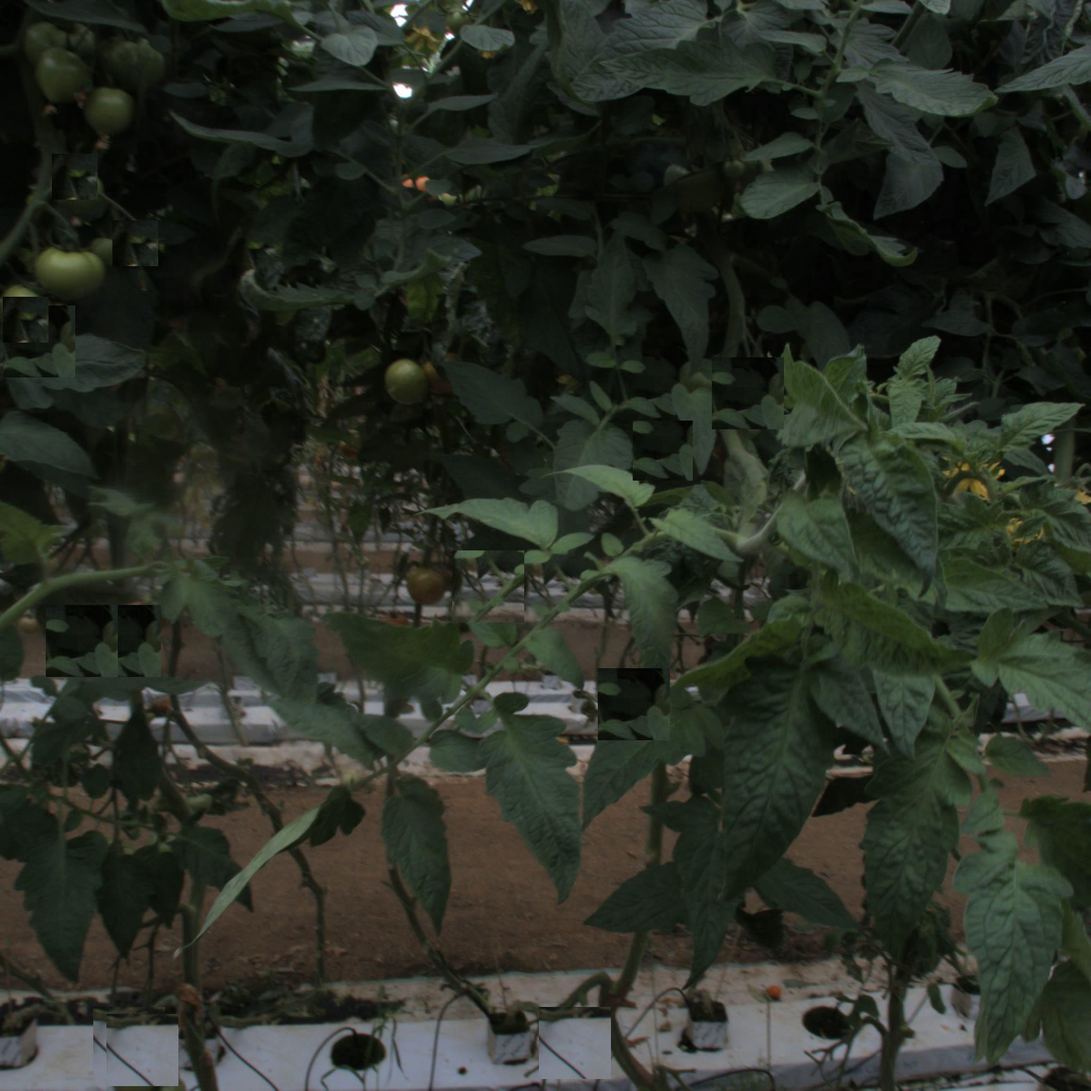semi-ripe: (406, 565, 447, 606)
unripe: (37, 237, 101, 302), (39, 47, 93, 101), (384, 360, 429, 405), (86, 86, 130, 130)
